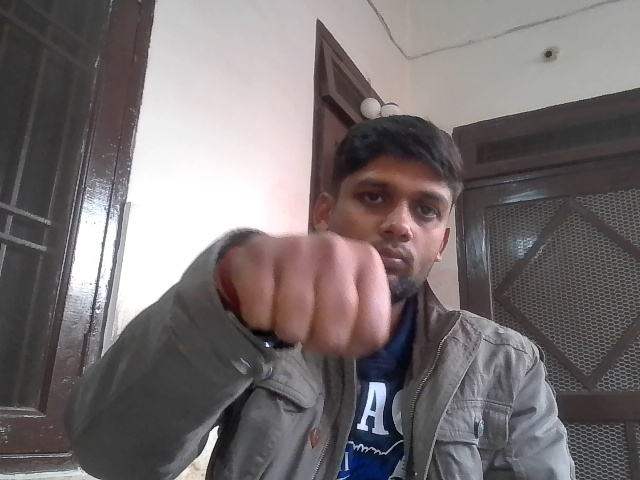Yes: (220, 218, 399, 390)
